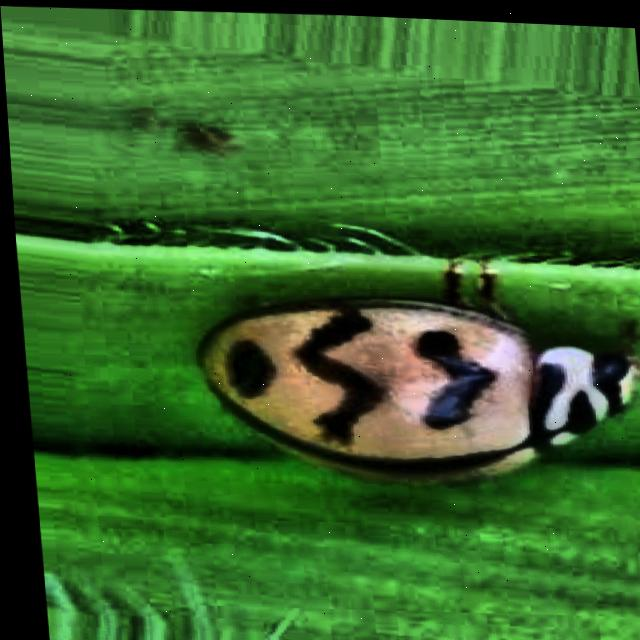Asian-Lady-beetle: (92, 182, 640, 527)
